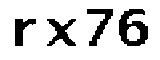6: (117, 7, 151, 46)
7: (85, 6, 114, 48)
r: (14, 11, 36, 51)
x: (46, 16, 77, 50)
